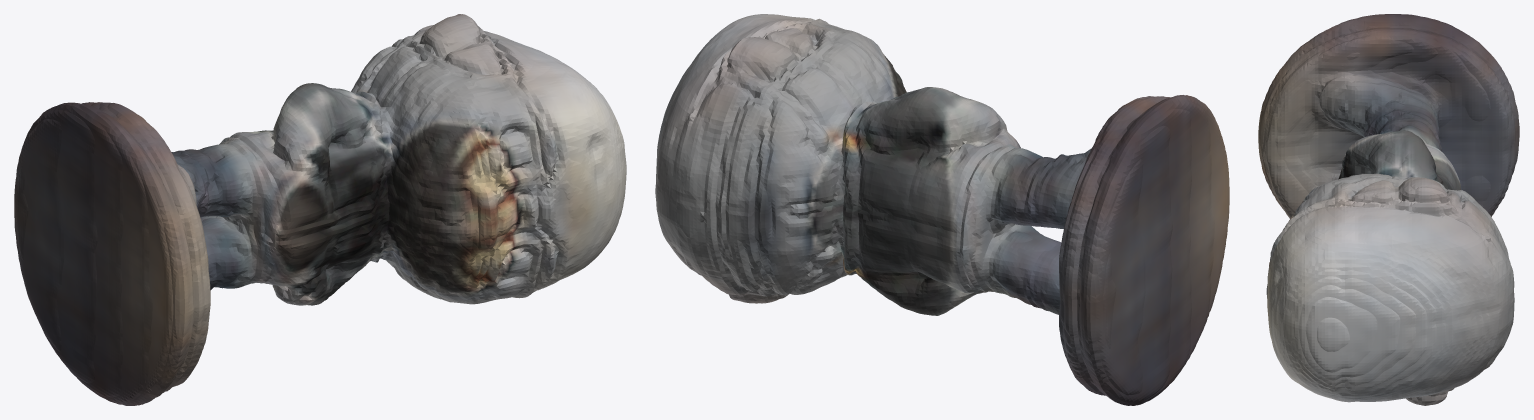
Rendered from ray.glb.
The picture shows the model from 3 angles, left to right: view 1: azimuth 30°, elevation 25°; view 2: azimuth 150°, elevation 25°; view 3: azimuth 270°, elevation 25°; orthographic projection. The views are drawn at different scales.
Parts seen in each view (by area): view 1: geometry_0; view 2: geometry_0; view 3: geometry_0.
Boxes of the visible parts, x1,y1,x2,y2 form: geometry_0: (14,14,626,405); geometry_0: (655,14,1229,405); geometry_0: (1258,14,1519,405).
Size of the model in its own units: 1.01 by 0.545 by 0.5331.
